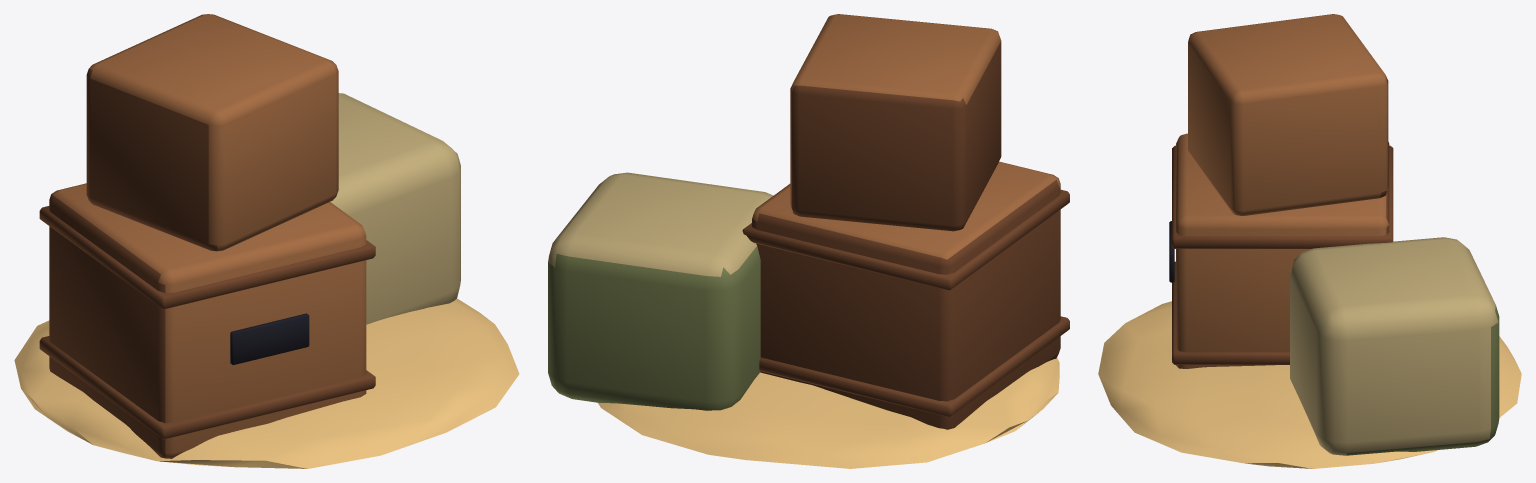
The model's file is DigCrates.fbx.
The picture shows the model from 3 angles, left to right: view 1: azimuth 30°, elevation 25°; view 2: azimuth 150°, elevation 25°; view 3: azimuth 270°, elevation 25°; orthographic projection. The views are drawn at different scales.
Visible parts, largest first — view 1: DigCrates; view 2: DigCrates; view 3: DigCrates.
Part boxes in pixels (x1,y1,x2,y2): DigCrates: (14,14,519,468); DigCrates: (548,14,1069,468); DigCrates: (1098,14,1521,468).
Bounding box in the file's own units: 1.67 × 1.22 × 1.59.
1 material, 1 textured.
